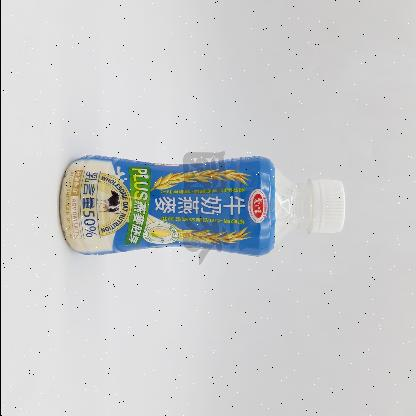Plastic Bottle: (59, 156, 344, 256)
